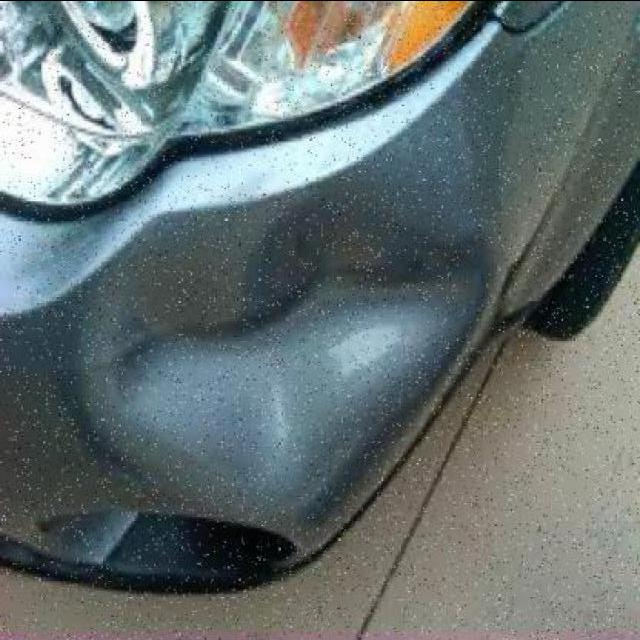front-bumper-dent: (0, 152, 507, 584)
